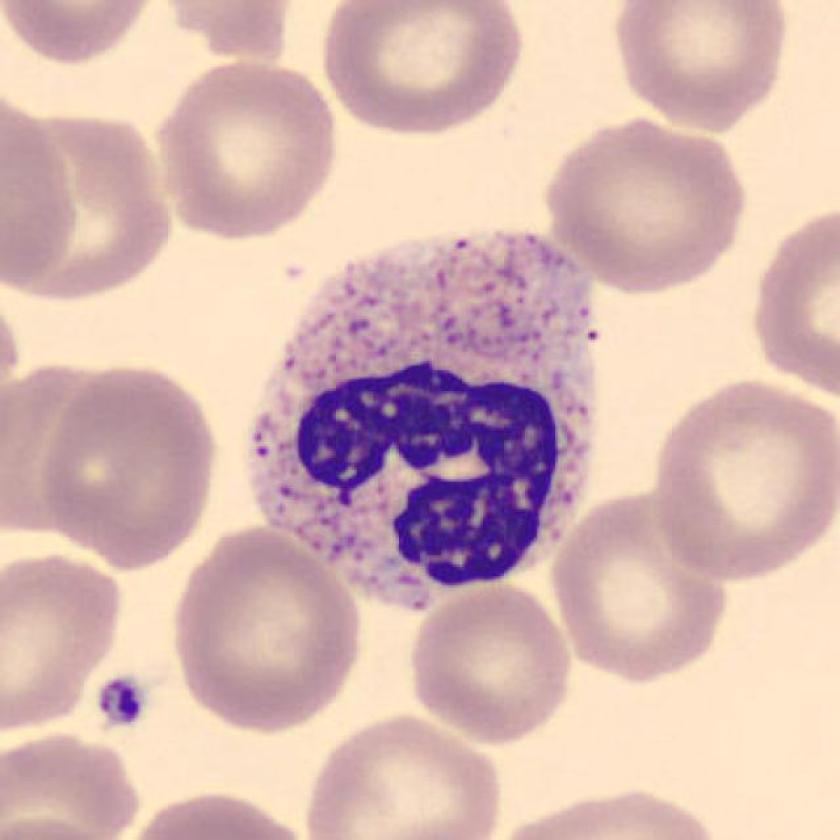neutrophil: (251, 231, 595, 607)
